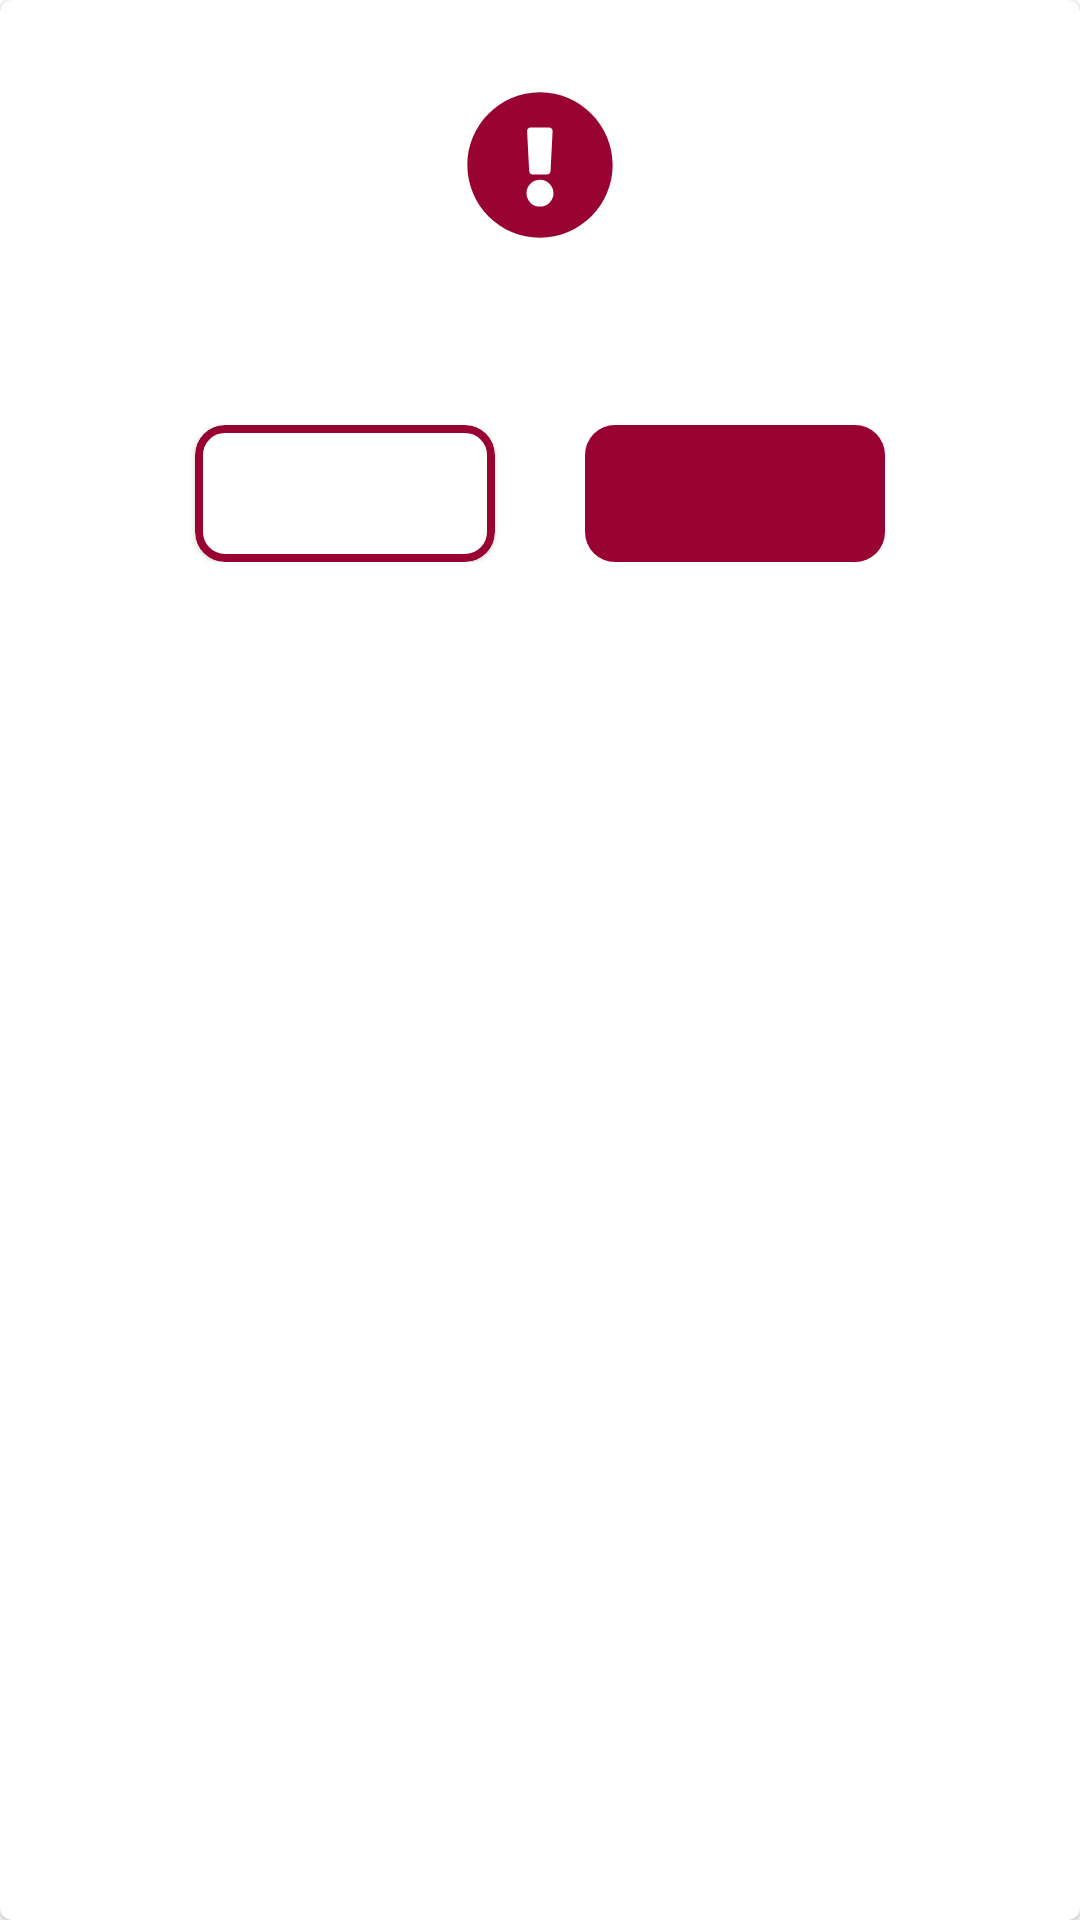

Point at icon controls on the screen. Image size 1080w x 1920h, points as (x=x, y=y).
error: (x=540, y=165)
